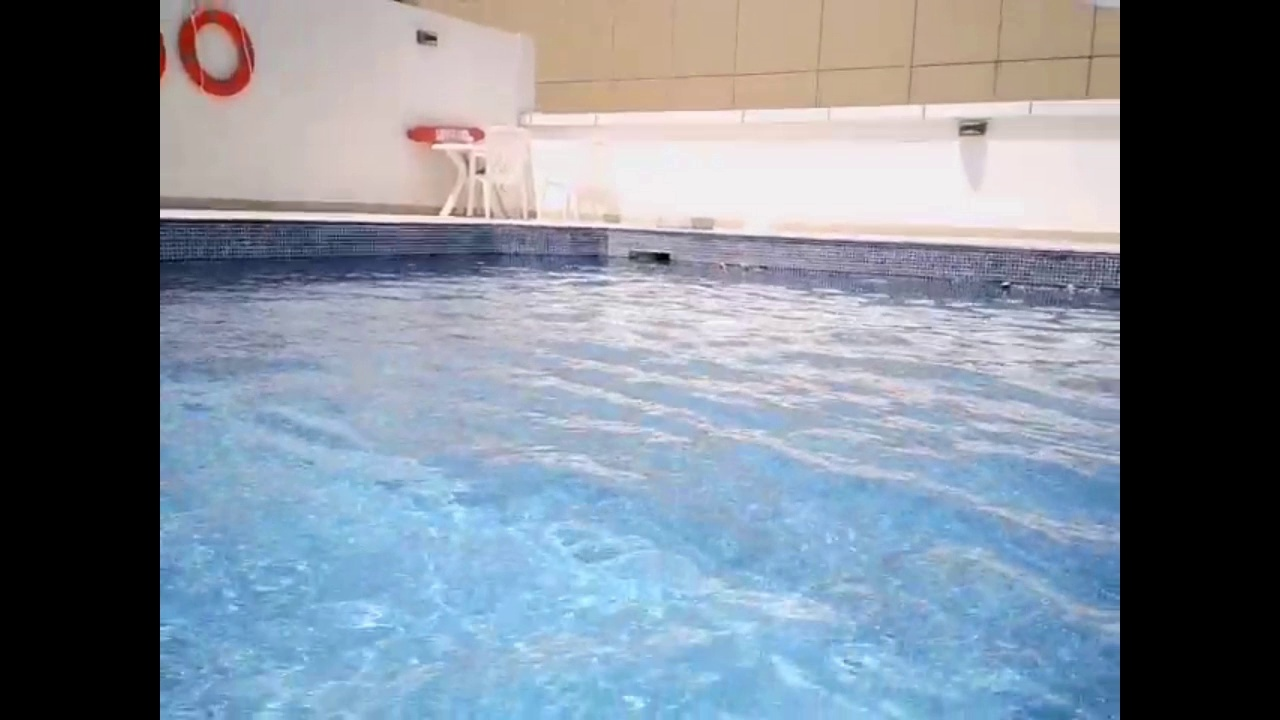debris: (994, 277, 1018, 303), (1055, 279, 1080, 302), (710, 258, 734, 279), (1073, 281, 1101, 299), (733, 259, 756, 275)
